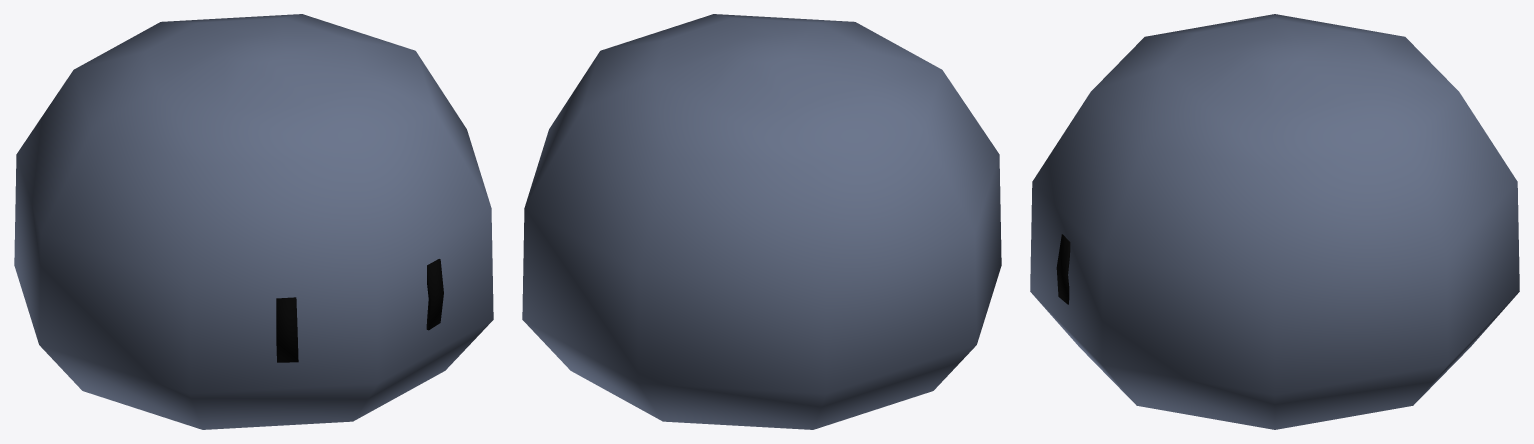
The model's file is slime1.glb.
The picture shows the model from 3 angles, left to right: view 1: azimuth 30°, elevation 25°; view 2: azimuth 150°, elevation 25°; view 3: azimuth 270°, elevation 25°; orthographic projection.
Parts seen in each view (by area): view 1: Slime_1; view 2: Slime_1; view 3: Slime_1.
Boxes of the visible parts, x1,y1,x2,y2 form: Slime_1: (14, 14, 493, 429); Slime_1: (522, 14, 1001, 429); Slime_1: (1030, 14, 1519, 429).
Size of the model in its own units: 1.84 by 1.23 by 1.84.
